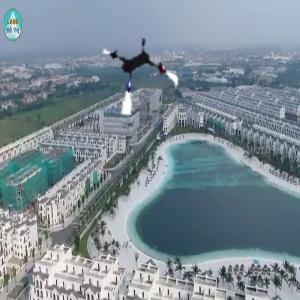drone: (93, 32, 183, 122)
